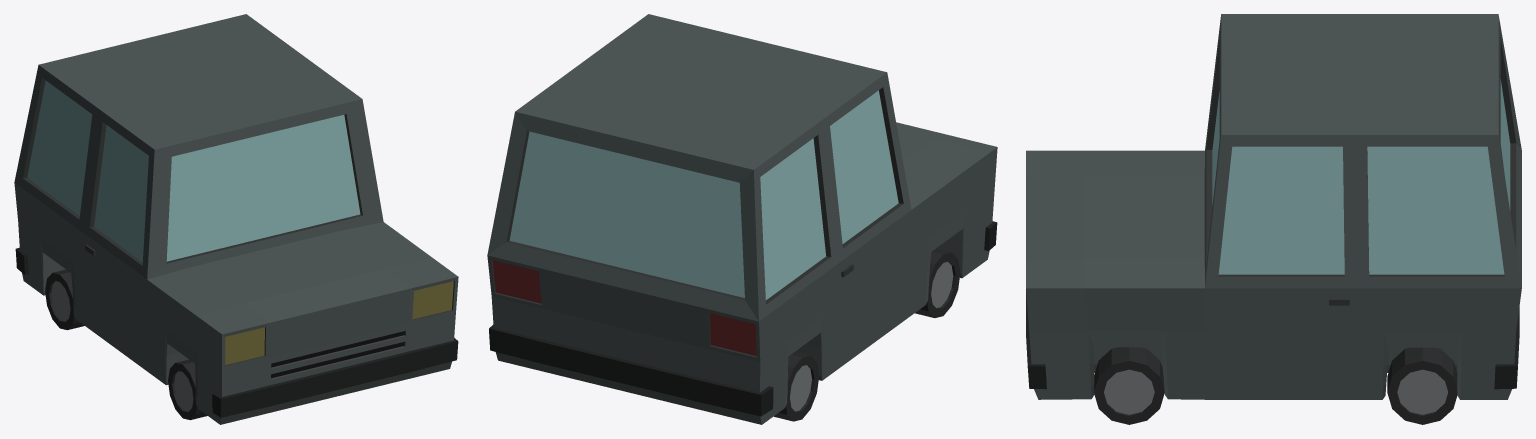
Rendered from InvertedOldCar.fbx.
3 renders of one model, left to right at view 1: azimuth 30°, elevation 25°; view 2: azimuth 150°, elevation 25°; view 3: azimuth 270°, elevation 25°, orthographic. The views are drawn at different scales.
Parts seen in each view (by area): view 1: OldCar; view 2: OldCar; view 3: OldCar.
Part boxes in pixels (x1=…): OldCar: x1=14, y1=14, x2=458, y2=424; OldCar: x1=487, y1=14, x2=997, y2=424; OldCar: x1=1026, y1=14, x2=1521, y2=424.
Size of the model in its own units: 162 by 154 by 243.
